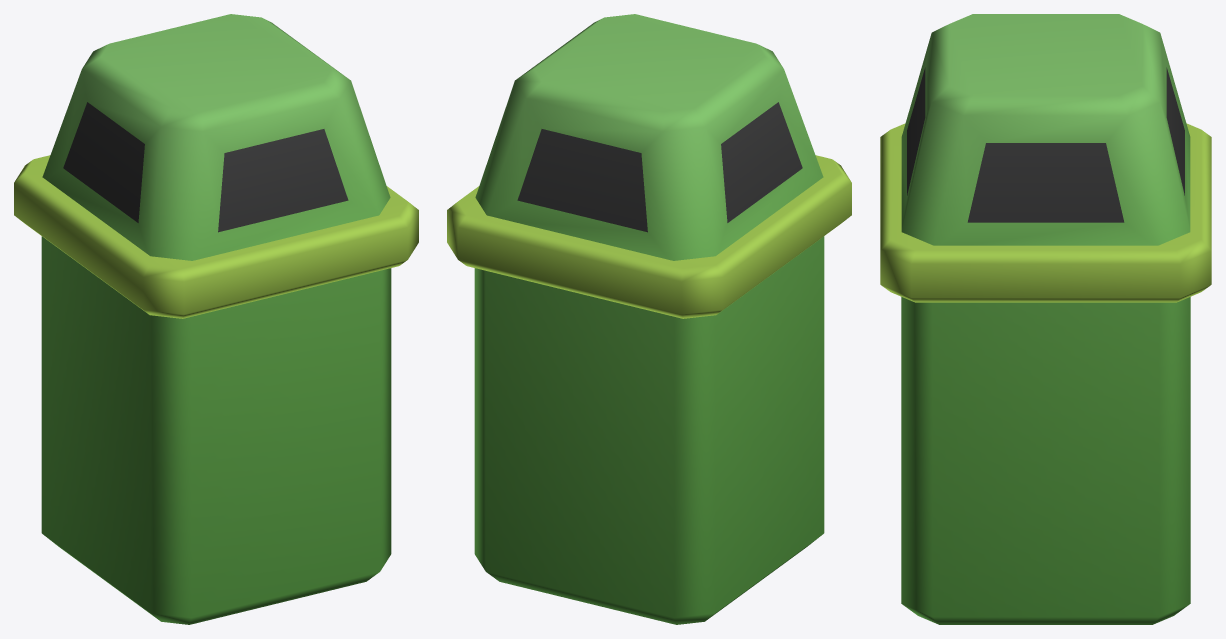
Rendered from Trash_05.glb.
The picture shows the model from 3 angles, left to right: view 1: azimuth 30°, elevation 25°; view 2: azimuth 150°, elevation 25°; view 3: azimuth 270°, elevation 25°; orthographic projection. The views are drawn at different scales.
Visible parts, largest first — view 1: Trash_05; view 2: Trash_05; view 3: Trash_05.
Boxes of the visible parts, left/top/right/bottom form: Trash_05: left=14, top=14, right=418, bottom=624; Trash_05: left=447, top=14, right=851, bottom=624; Trash_05: left=880, top=14, right=1211, bottom=624.
Bounding box in the file's own units: 0.5099 × 0.8757 × 0.5099.
1 material, 1 textured.
